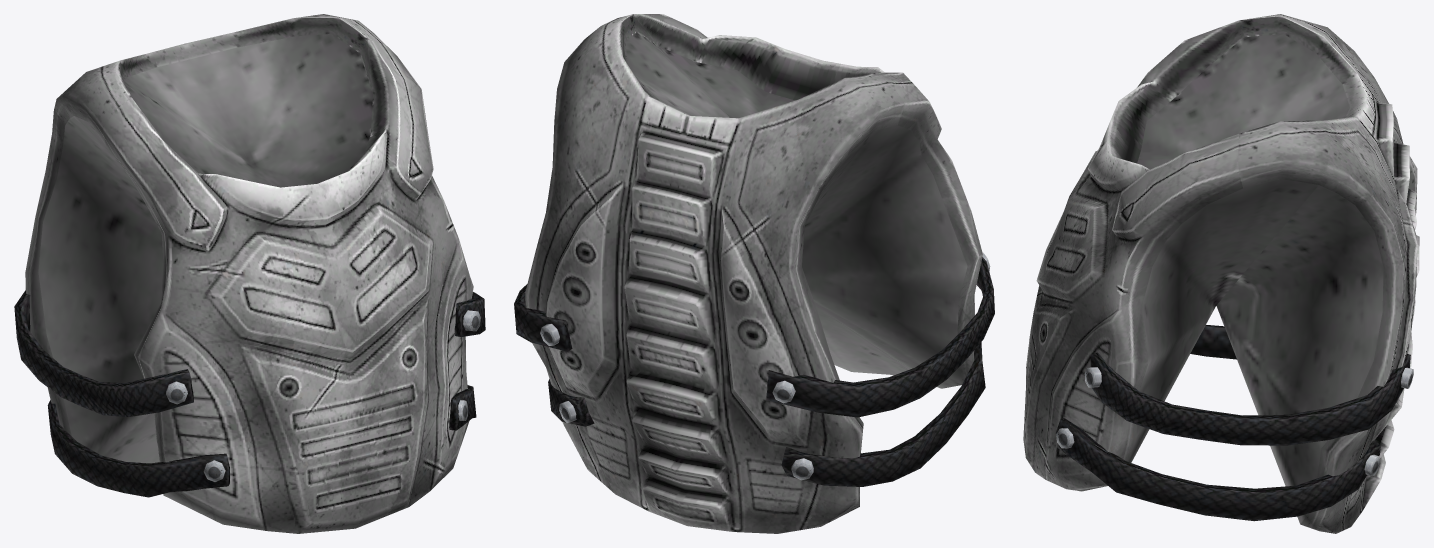
The model's file is SurvivorMale_Armor_BMX_LOD0.glb.
3 views of the same model, side by side, from view 1: azimuth 30°, elevation 25°; view 2: azimuth 150°, elevation 25°; view 3: azimuth 270°, elevation 25° (orthographic). The views are drawn at different scales.
Parts seen in each view (by area): view 1: Hoodie; view 2: Hoodie; view 3: Hoodie.
Boxes of the visible parts, box(x1,y1,x2,y2) form: Hoodie: box(14, 14, 485, 533); Hoodie: box(514, 14, 994, 533); Hoodie: box(1023, 14, 1419, 533).
Bounding box in the file's own units: 0.4026 × 0.437 × 0.3656.
1 material, 1 textured.
